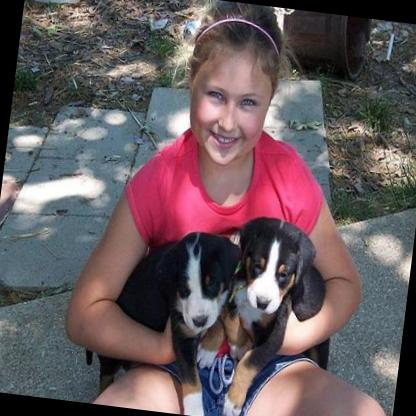Greater_Swiss_Mountain_dog: (76, 216, 240, 416), (213, 209, 345, 416)
